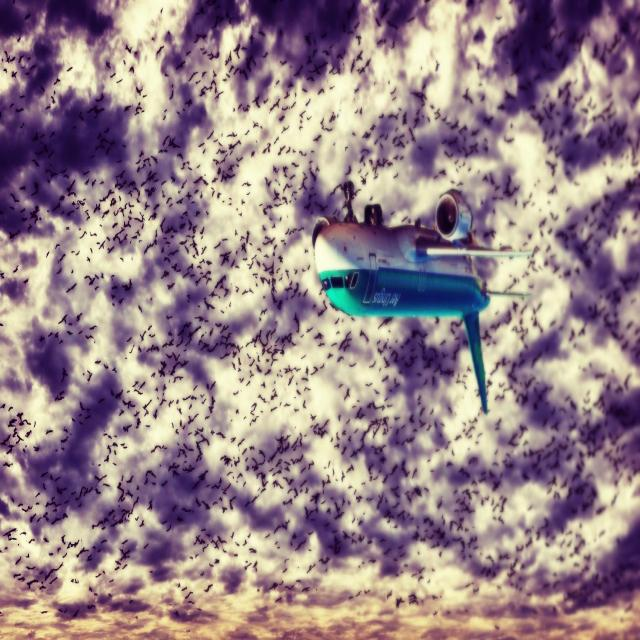airplane: (311, 180, 533, 414)
